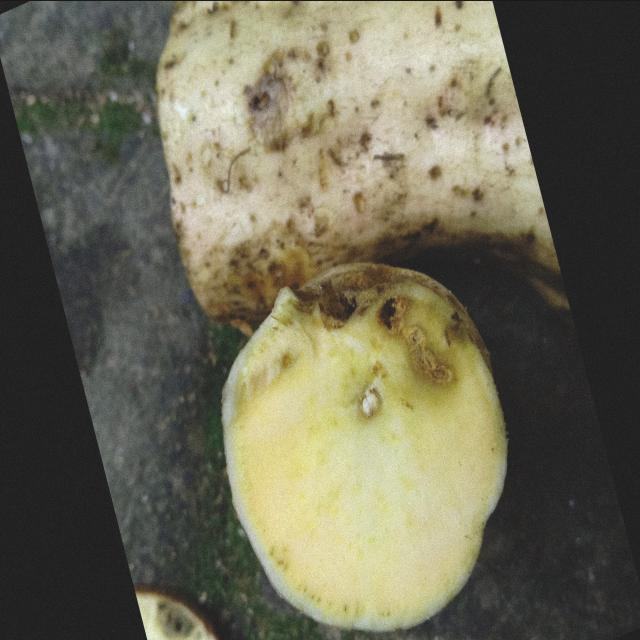Sick Sweet Potato_Tuber Rot: (222, 262, 508, 630)
